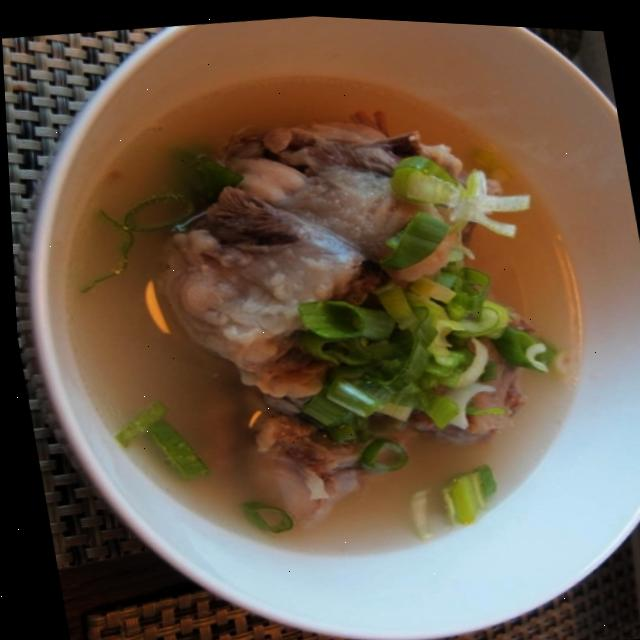汤锅炖物: (3, 0, 640, 640)
